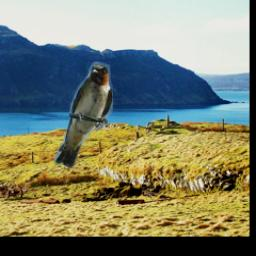Swallow: (53, 61, 113, 167)
